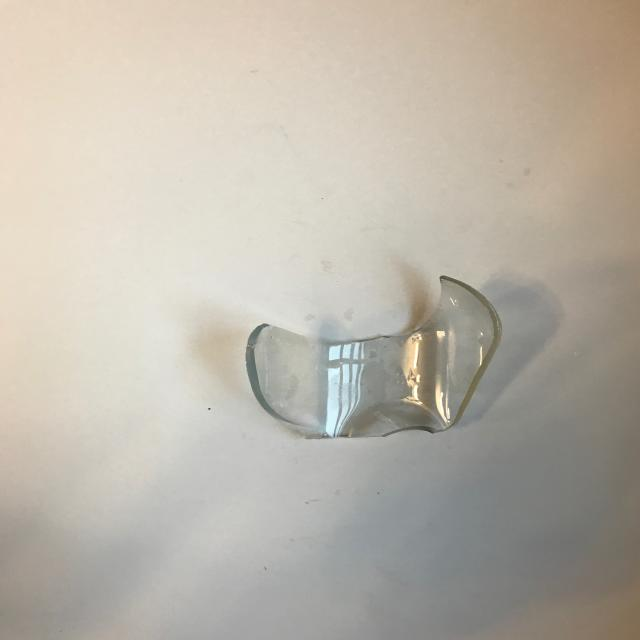glass: (244, 273, 503, 439)
